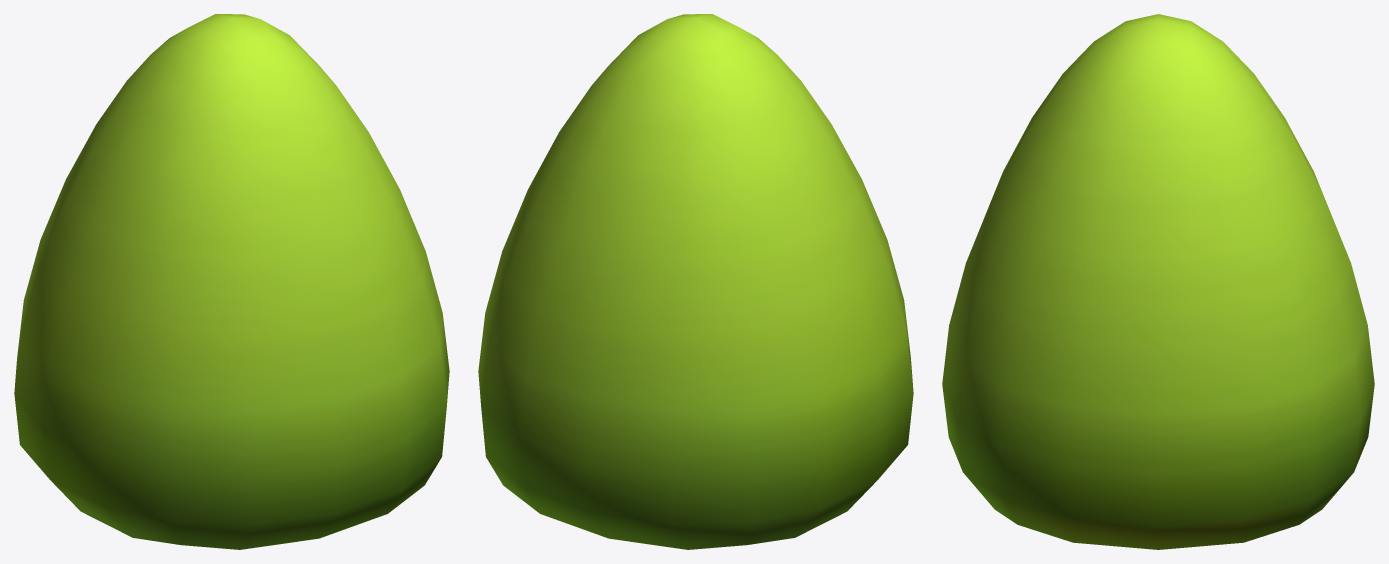
Rendered from bush-small.glb.
The picture shows the model from 3 angles, left to right: view 1: azimuth 30°, elevation 25°; view 2: azimuth 150°, elevation 25°; view 3: azimuth 270°, elevation 25°; orthographic projection.
Parts seen in each view (by area): view 1: small_bush; view 2: small_bush; view 3: small_bush.
Boxes of the visible parts, <box> form: small_bush: <box>14,14,449,549</box>; small_bush: <box>478,14,913,549</box>; small_bush: <box>942,14,1374,549</box>.
Bounding box in the file's own units: 1.74 × 2.12 × 1.74.
Materials: 1 (1 with a texture image).
